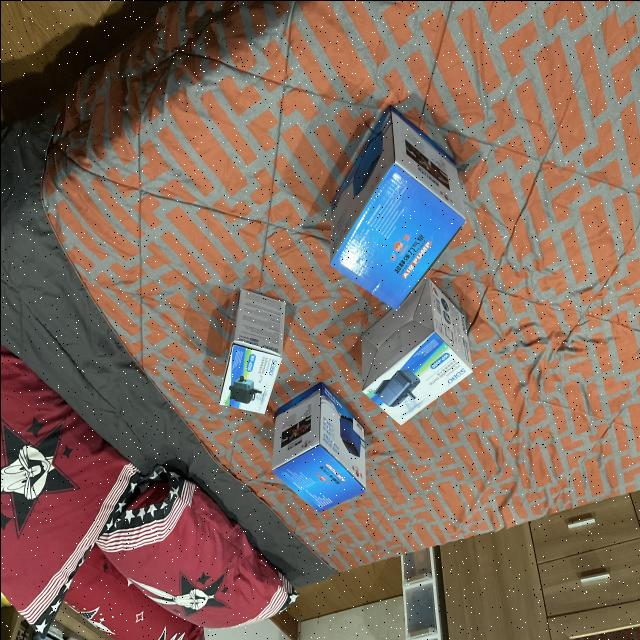SOBO_WP_4200: (359, 280, 485, 434), (210, 268, 294, 420)
YAMANO_LPP_20: (313, 93, 481, 308), (266, 382, 378, 512)
